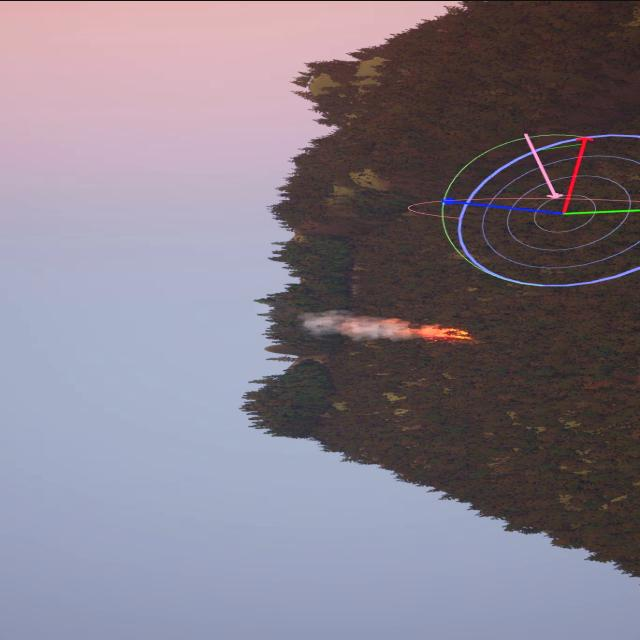fire: (423, 322, 469, 342)
smoke: (299, 310, 421, 338)
